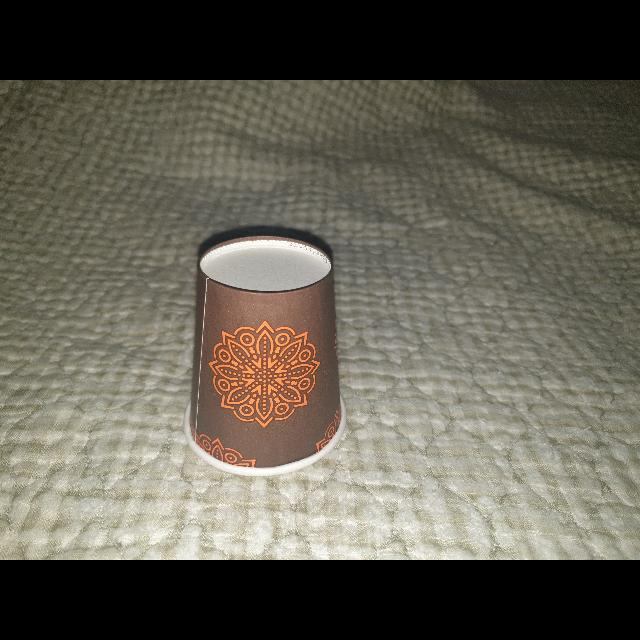trash: (178, 228, 354, 477)
